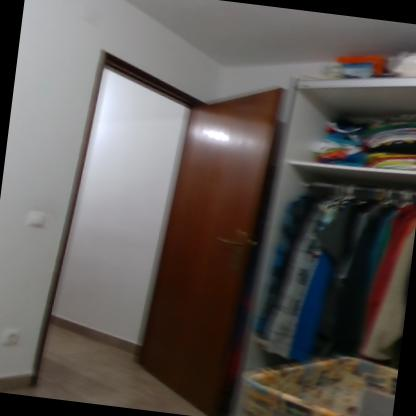open: (36, 47, 295, 414)
